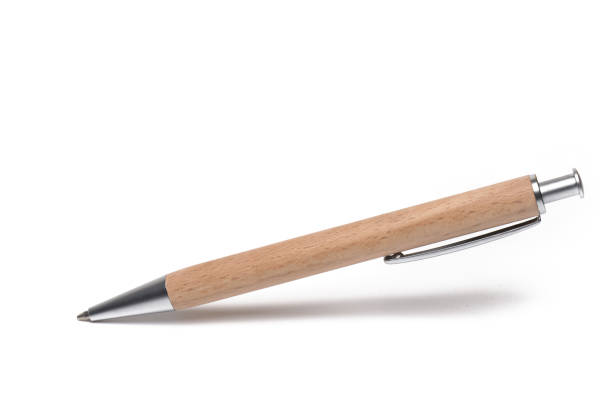pen: (73, 163, 589, 338)
